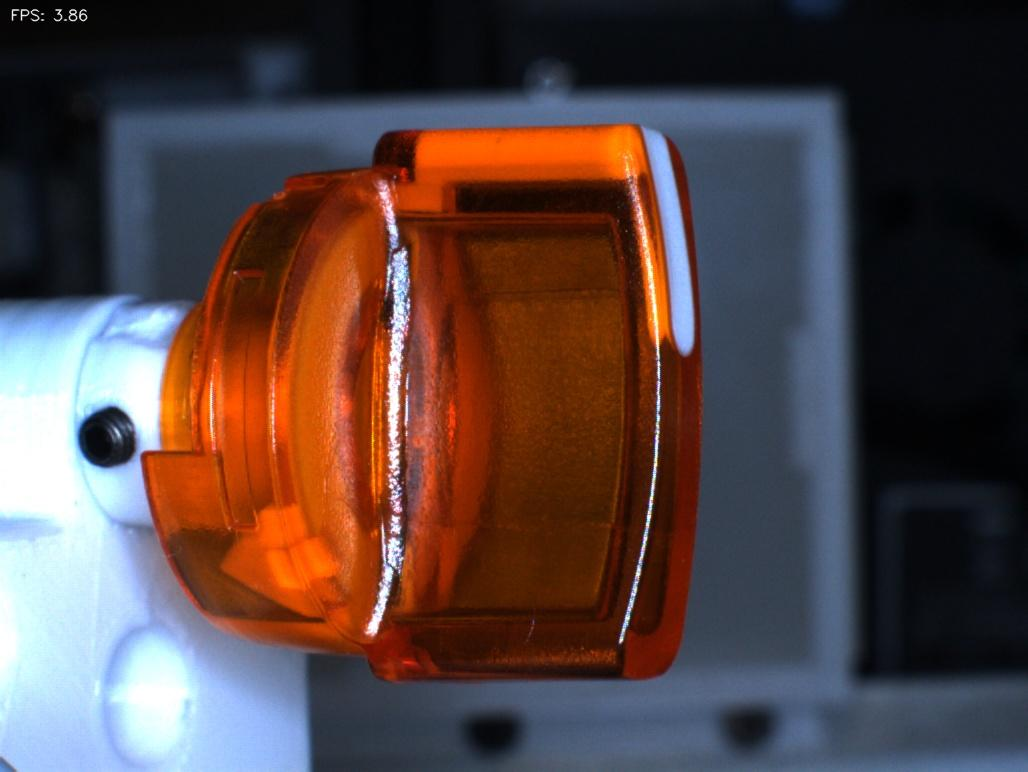Givrage: (496, 573, 564, 670)
